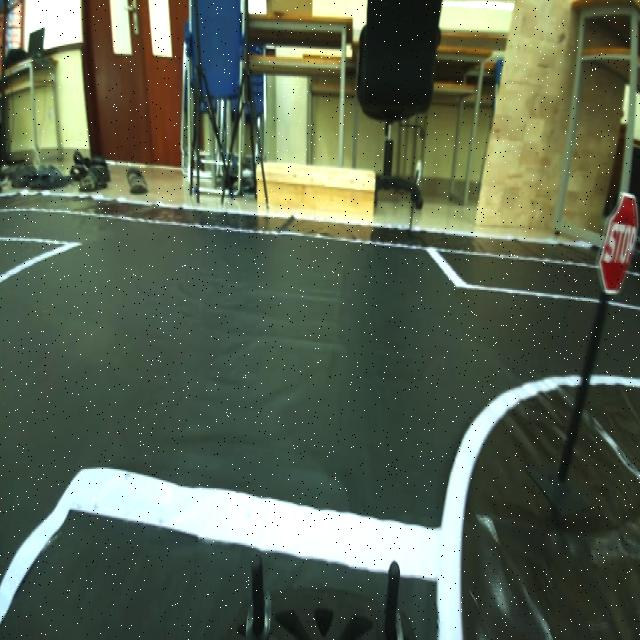stop: (599, 187, 640, 298)
